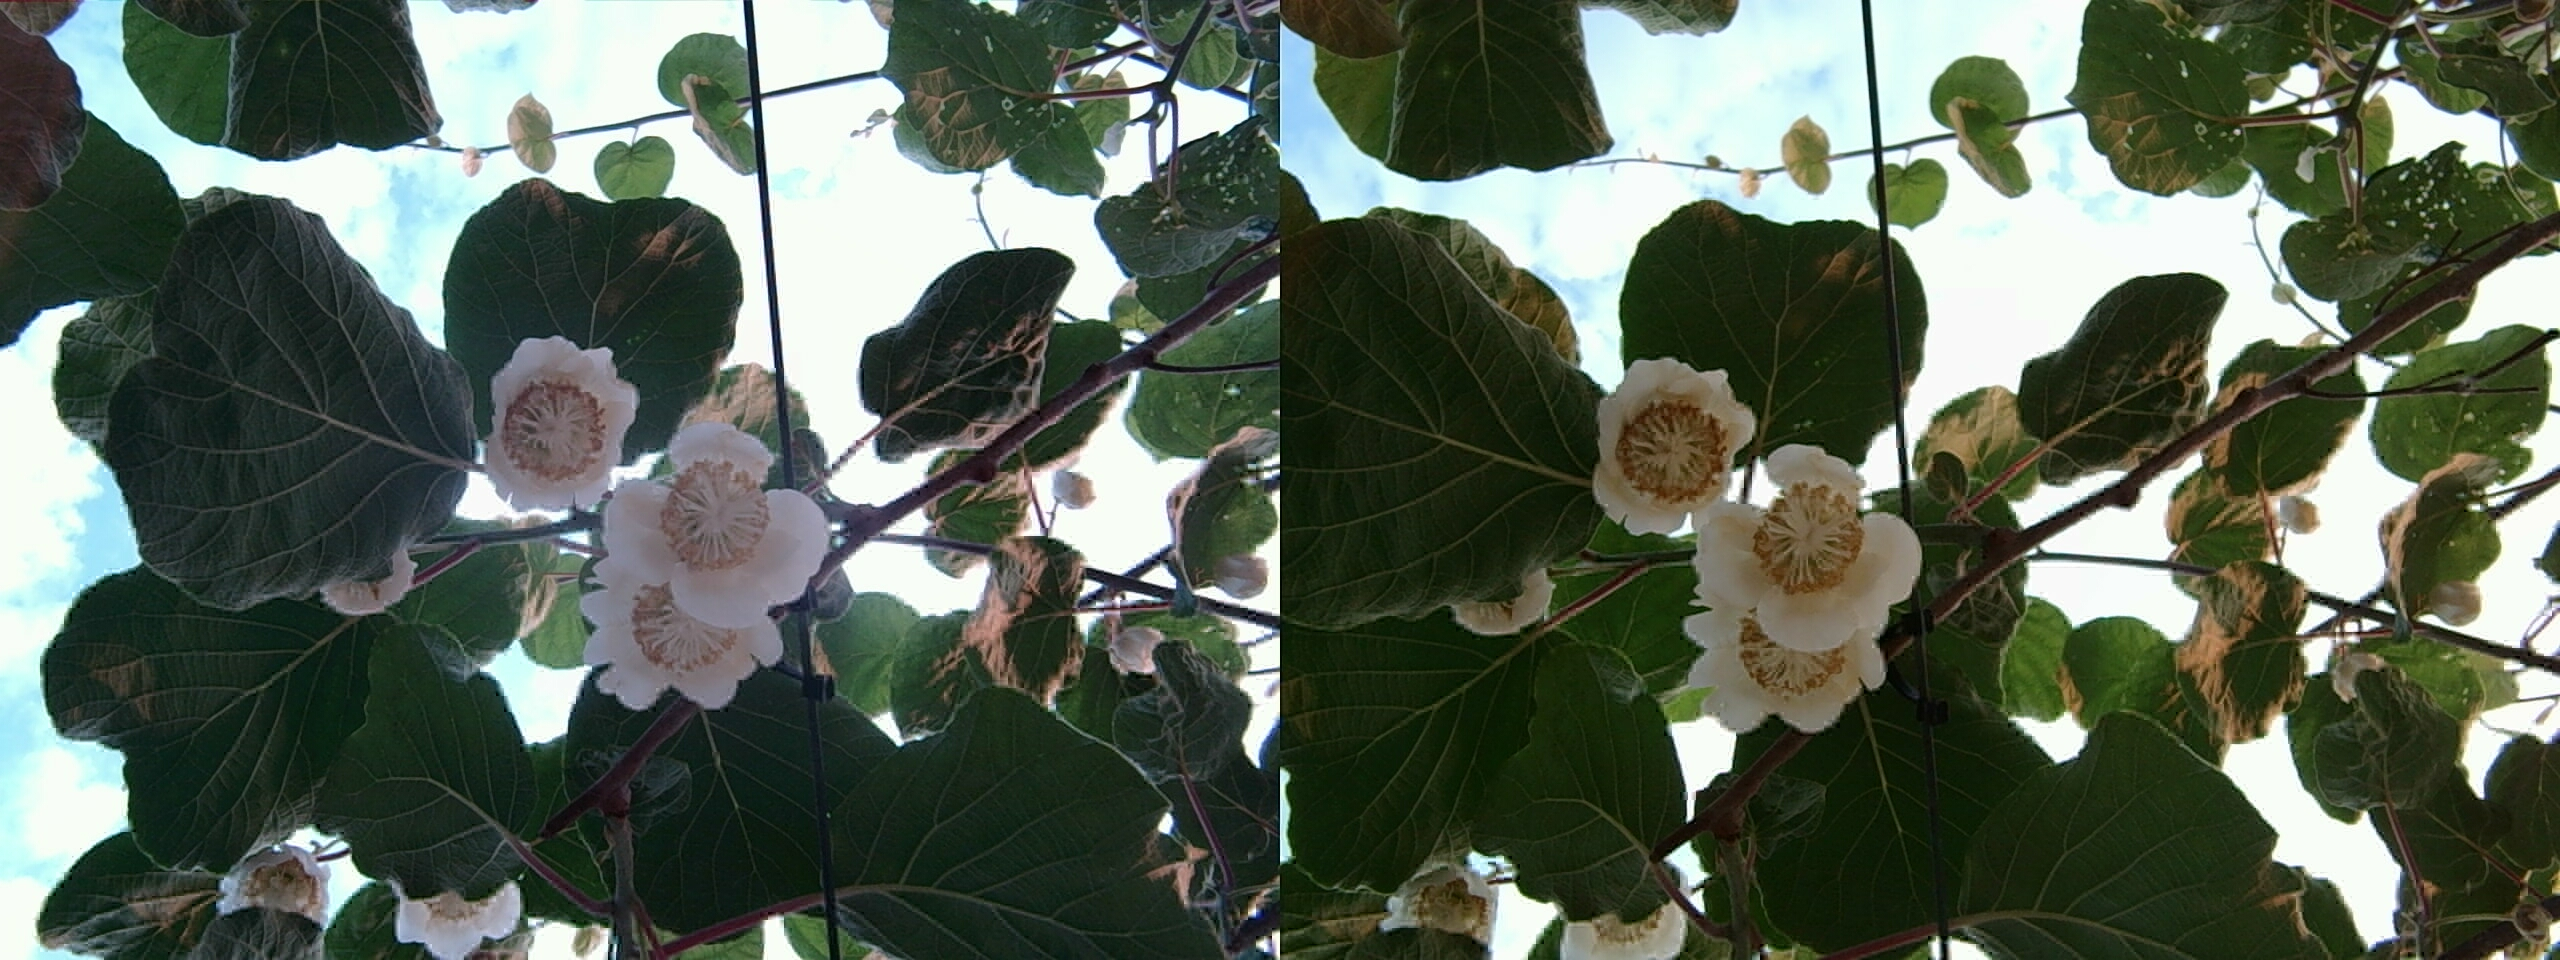flower: (589, 402, 831, 650), (1690, 442, 1910, 655), (1585, 349, 1758, 536), (475, 335, 643, 508), (580, 562, 782, 704), (1678, 609, 1891, 733)
